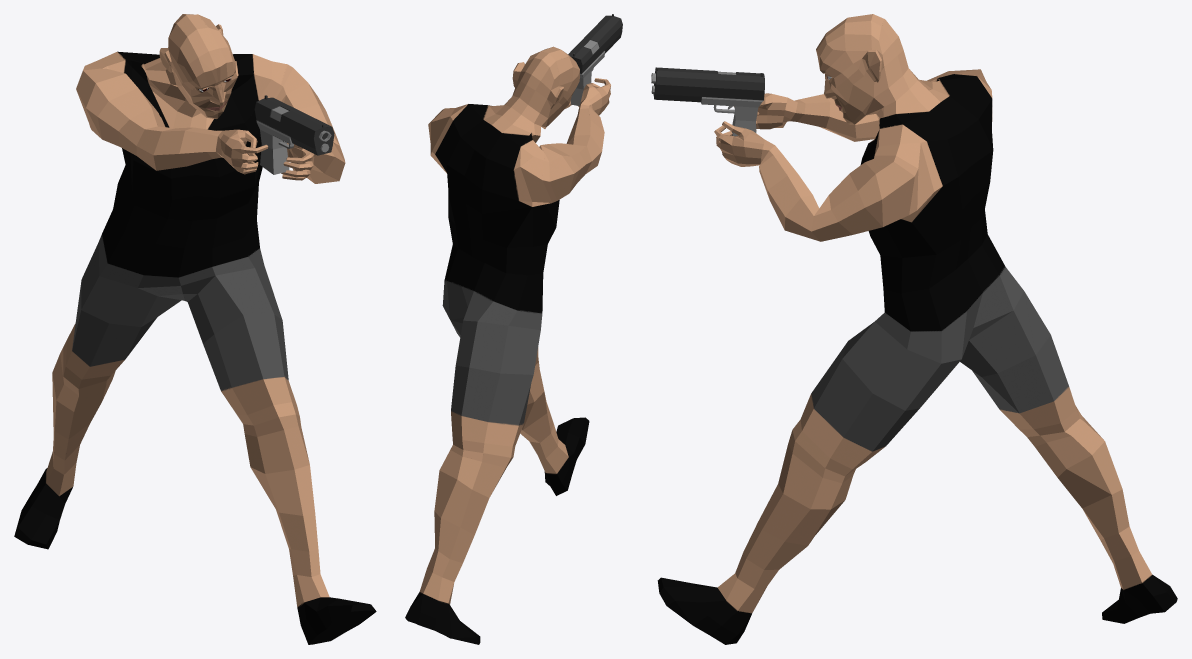
Rendered from PlayerWalk(4).obj.
3 renders of one model, left to right at view 1: azimuth 30°, elevation 25°; view 2: azimuth 150°, elevation 25°; view 3: azimuth 270°, elevation 25°, orthographic. The views are drawn at different scales.
Visible parts, largest first — view 1: Plane002, Box003; view 2: Plane002, Box003; view 3: Plane002, Box003.
Boxes of the visible parts, x1,y1,x2,y2 form: Plane002: (14,14,376,644); Box003: (254,95,334,174); Plane002: (405,46,610,644); Box003: (568,14,622,105); Plane002: (657,14,1177,644); Box003: (651,67,764,136).
Size of the model in its own units: 585 by 1700 by 1314.
